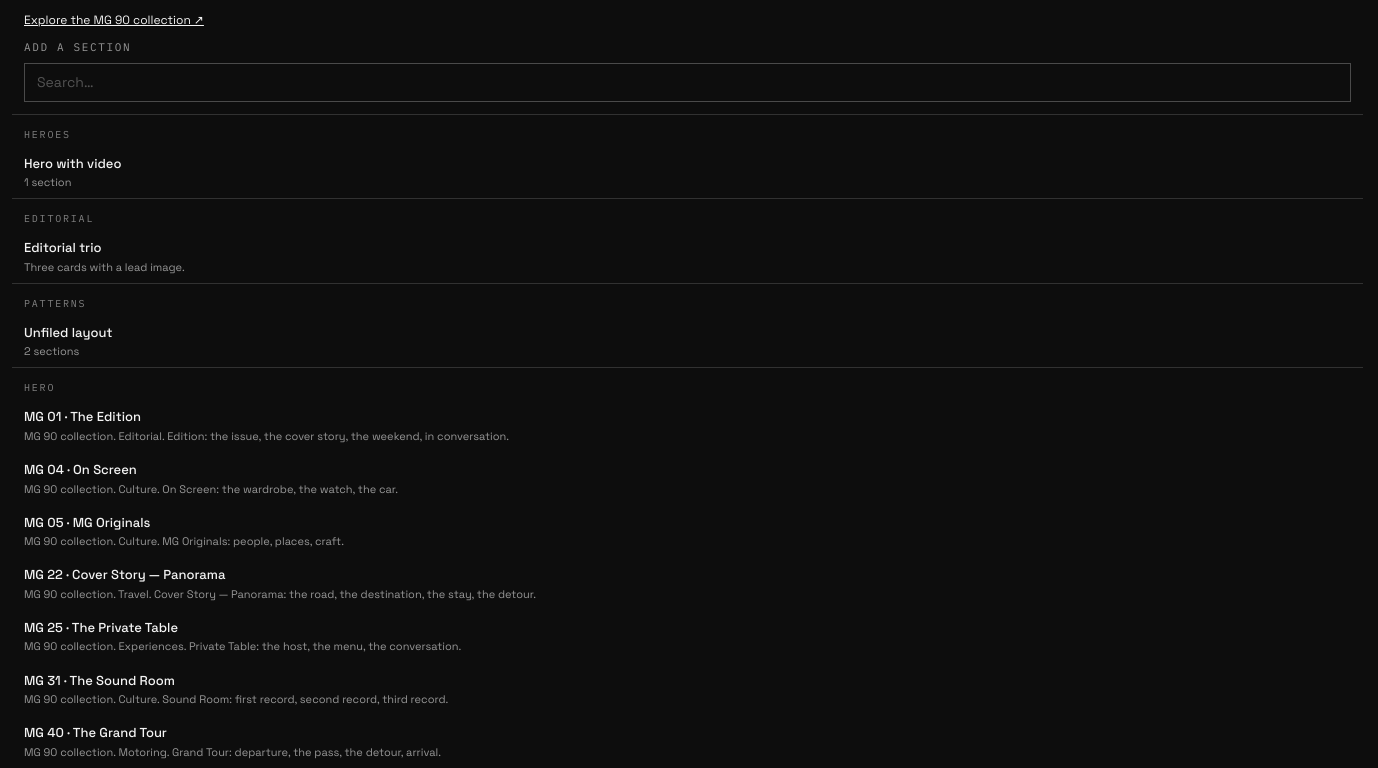
patterns in the rail › drops a heading whose patterns no longer match the search
Type "trio" into the field labelled "Add a section" at (688, 82), box [24,62,1351,102]
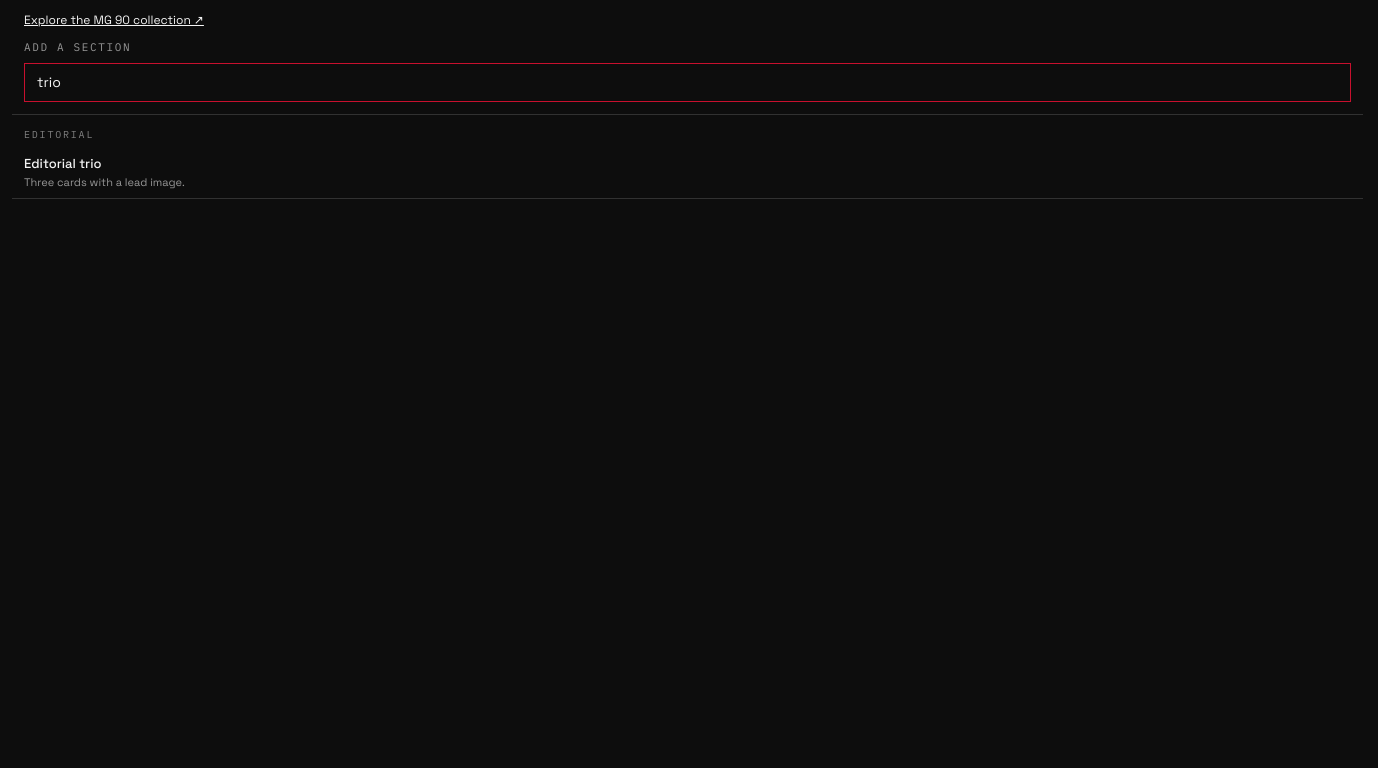
Expected: the heading "Editorial" is shown, [24,128,94,140]
Result: the heading "Heroes" is gone
Result: the heading "Patterns" is gone
